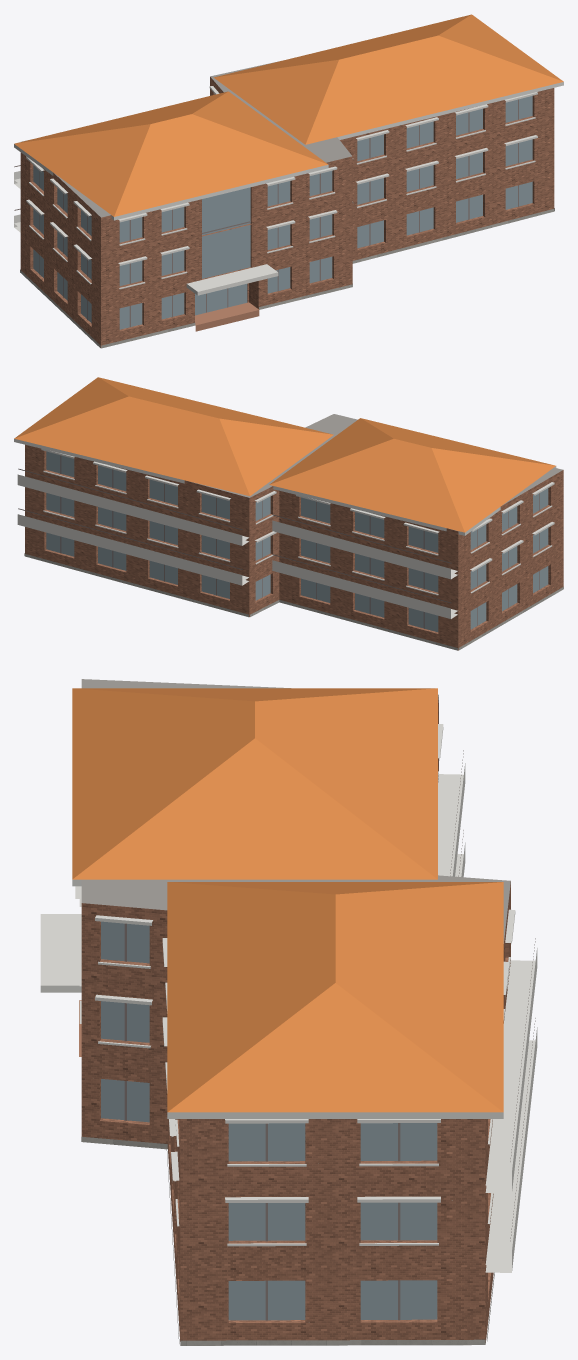
3 renders of one model, top to bottom at view 1: azimuth 30°, elevation 25°; view 2: azimuth 150°, elevation 25°; view 3: azimuth 270°, elevation 25°, orthographic. The views are drawn at different scales.
Visible parts, largest first — view 1: osm136242986__roofAccent, osm136242986__wall, osm136242986__glass, osm136242986__trim, osm136242986__base, osm136242986__roof, osm136242986__canopy, osm136242986__frame, osm136242986__entranceThreshold_0; view 2: osm136242986__wall, osm136242986__roofAccent, osm136242986__glass, osm136242986__trim, osm136242986__frame, osm136242986__base, osm136242986__roof; view 3: osm136242986__roofAccent, osm136242986__wall, osm136242986__glass, osm136242986__trim, osm136242986__roof, osm136242986__canopy, osm136242986__base, osm136242986__frame.
Boxes of the visible parts, x1,y1,x2,y2 form: osm136242986__roofAccent: [14, 14, 563, 216]; osm136242986__wall: [20, 77, 554, 347]; osm136242986__glass: [33, 96, 532, 329]; osm136242986__trim: [14, 82, 563, 289]; osm136242986__base: [20, 208, 554, 348]; osm136242986__roof: [21, 61, 351, 217]; osm136242986__canopy: [186, 264, 278, 295]; osm136242986__frame: [14, 99, 518, 327]; osm136242986__entranceThreshold_0: [195, 302, 259, 331]; osm136242986__wall: [25, 444, 563, 650]; osm136242986__roofAccent: [14, 377, 555, 532]; osm136242986__glass: [46, 451, 548, 632]; osm136242986__trim: [14, 438, 556, 618]; osm136242986__frame: [18, 455, 539, 628]; osm136242986__base: [24, 553, 563, 650]; osm136242986__roof: [191, 414, 563, 617]; osm136242986__roofAccent: [72, 688, 503, 1112]; osm136242986__wall: [81, 697, 510, 1342]; osm136242986__glass: [101, 921, 437, 1320]; osm136242986__trim: [72, 724, 537, 1272]; osm136242986__roof: [81, 679, 510, 1345]; osm136242986__canopy: [40, 914, 81, 992]; osm136242986__base: [81, 1136, 494, 1345]; osm136242986__frame: [124, 750, 535, 1320].
Bounding box in the file's own units: 35.16 × 11.82 × 16.98.
Materials: 10 (2 with a texture image).
